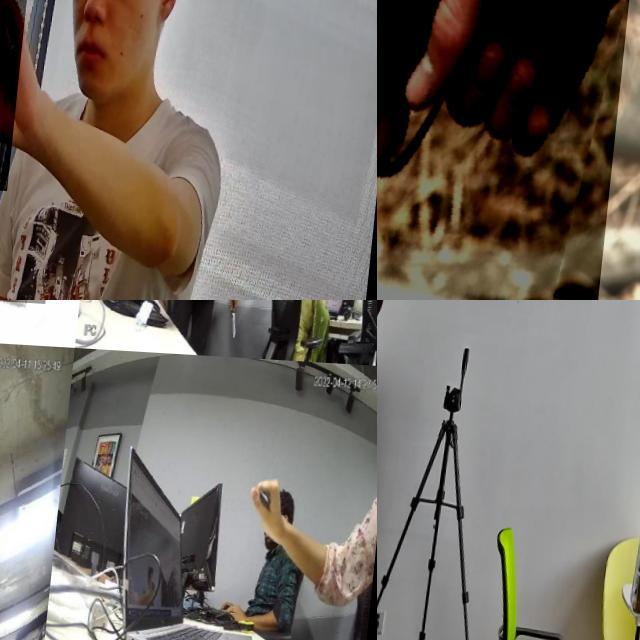-: (0, 300, 115, 405), (0, 342, 32, 618), (229, 300, 252, 331), (264, 472, 282, 505)
gun-knife-thesis - v11 Yolov5 augmented: (377, 0, 640, 300), (0, 0, 91, 187), (377, 300, 403, 355)
